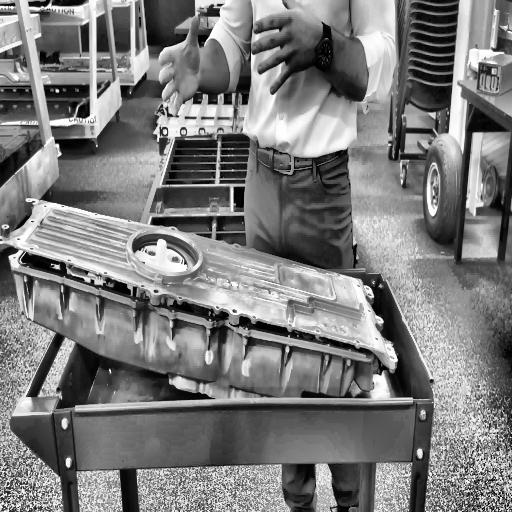bms_unit: (0, 192, 393, 414)
